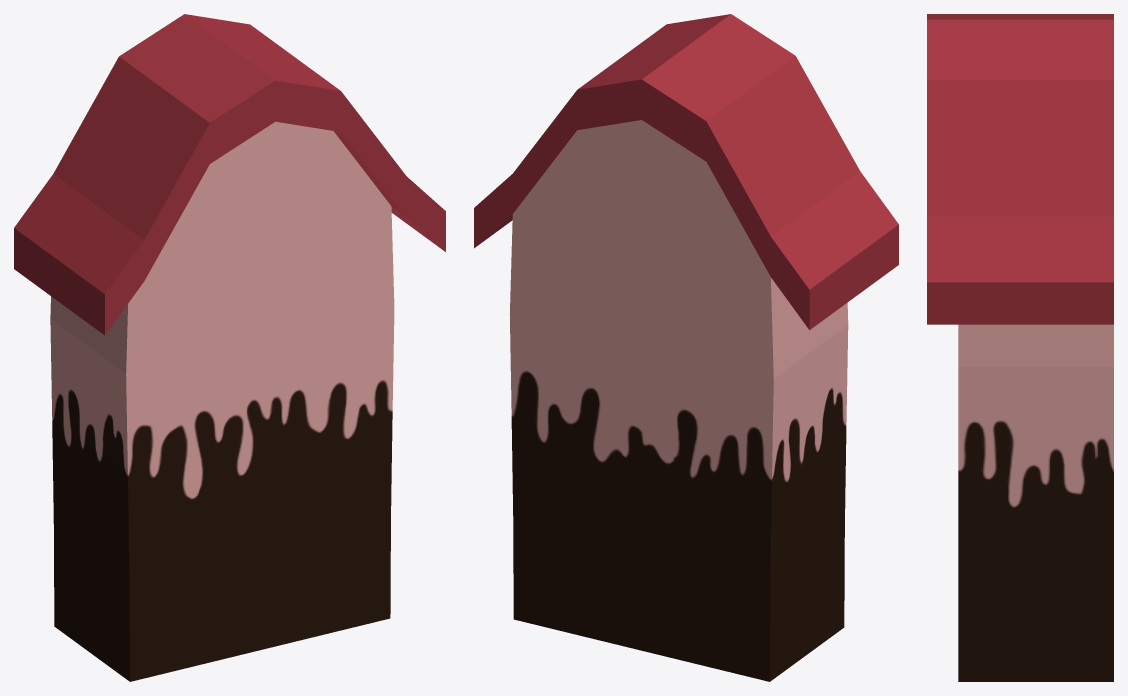
File: CasaFrontal.FBX
The picture shows the model from 3 angles, left to right: view 1: azimuth 30°, elevation 25°; view 2: azimuth 150°, elevation 25°; view 3: azimuth 270°, elevation 25°; orthographic projection. The views are drawn at different scales.
Visible parts, largest first — view 1: CasaFrontal; view 2: CasaFrontal; view 3: CasaFrontal.
Part boxes in pixels (x1=…): CasaFrontal: x1=14, y1=14, x2=445, y2=681; CasaFrontal: x1=474, y1=14, x2=898, y2=681; CasaFrontal: x1=927, y1=14, x2=1113, y2=681.
Bounding box in the file's own units: 4.96 × 8.07 × 2.29.
